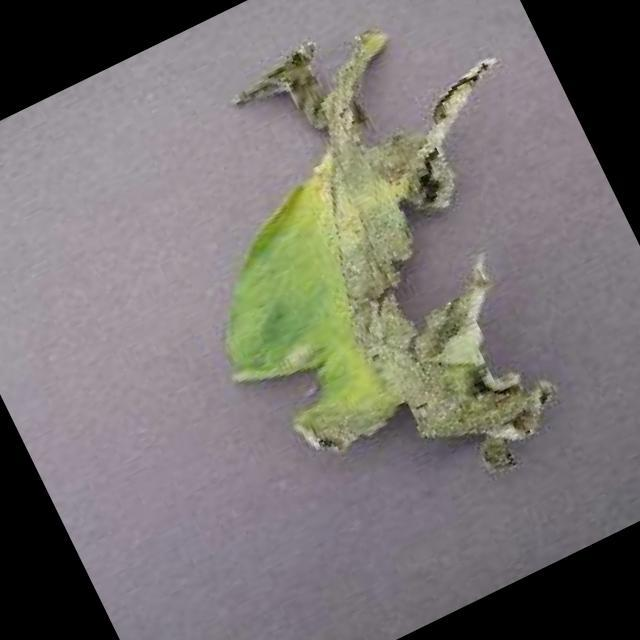Tomato late blight leaf: (112, 0, 640, 566)
